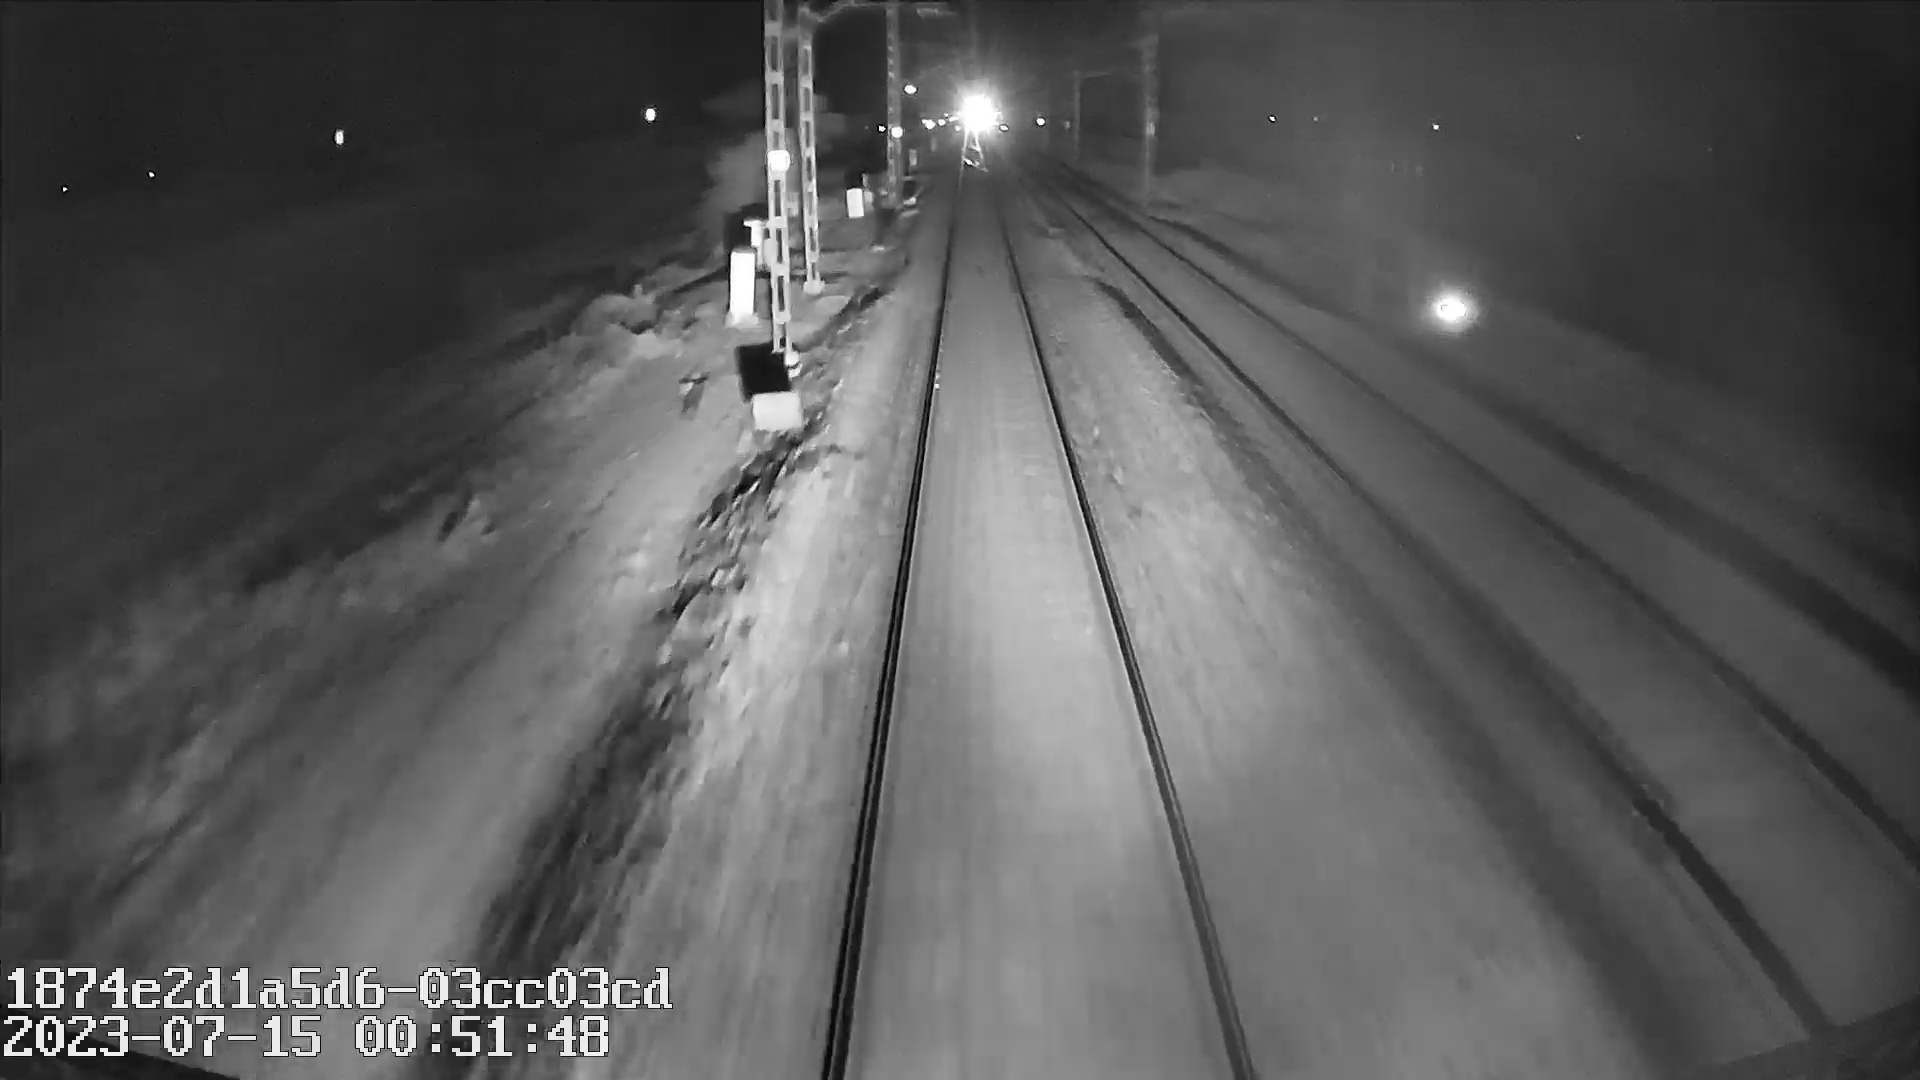track1: (840, 170, 1244, 1065)
track2: (1058, 185, 1912, 988)
